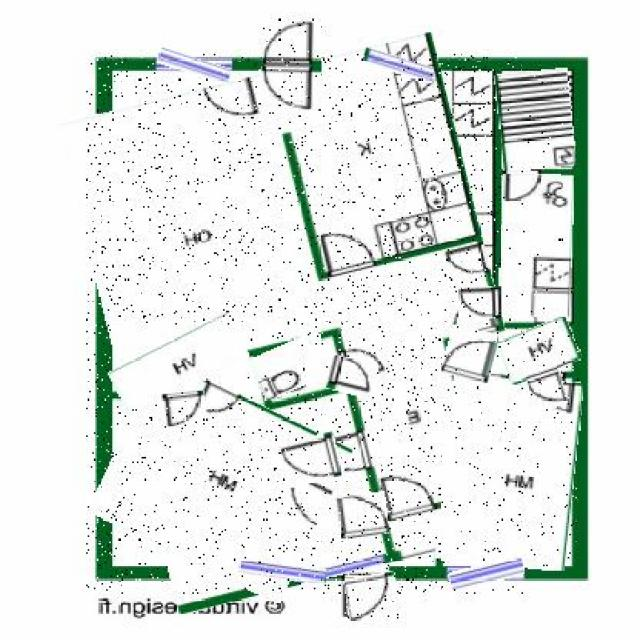door: (262, 16, 322, 112), (280, 434, 340, 484), (443, 328, 497, 380), (344, 574, 398, 618), (338, 492, 388, 537), (328, 357, 377, 397), (528, 368, 566, 410), (162, 392, 206, 428), (458, 286, 502, 319)
window: (157, 52, 231, 80), (361, 52, 434, 80), (449, 560, 525, 586), (239, 562, 326, 582)
zone: (86, 52, 525, 594), (102, 377, 340, 585), (440, 372, 578, 568), (110, 328, 248, 404), (500, 175, 572, 317), (497, 69, 572, 169), (500, 322, 578, 380), (252, 337, 331, 394)
